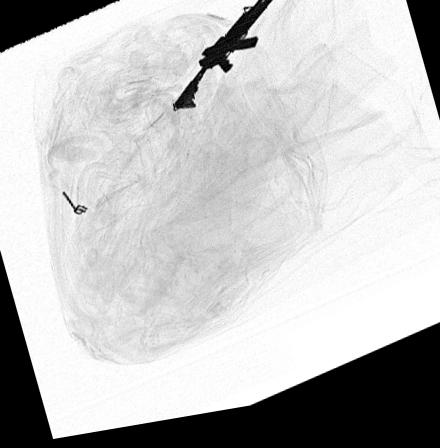Gun: (173, 0, 278, 115)
